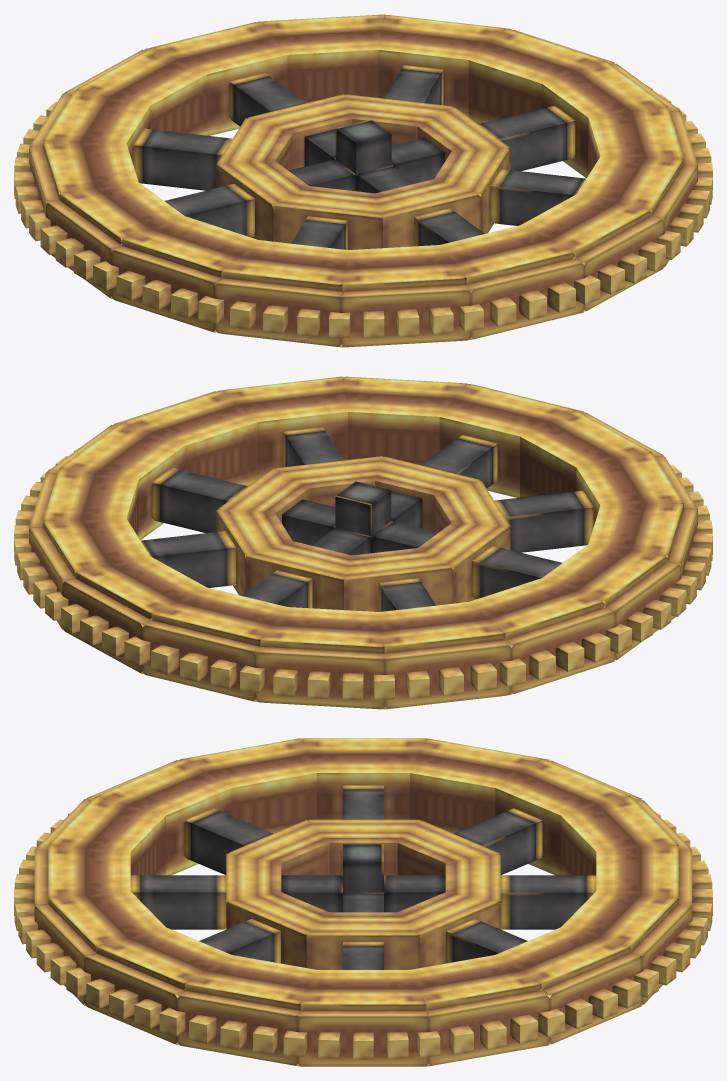
Rendered from giant_gear.obj.
3 views of the same model, one above another, from view 1: azimuth 30°, elevation 25°; view 2: azimuth 150°, elevation 25°; view 3: azimuth 270°, elevation 25° (orthographic).
Visible parts, largest first — view 1: hexadecagon, octagon, Gear19, Gear16, Gear18, Gear17, Gear15, Gear20, Gear14, Gear21; view 2: hexadecagon, octagon, Gear16, Gear17, Gear15, Gear14, Gear18, Gear13, Gear20, Gear19, Gear12; view 3: hexadecagon, octagon, Gear17, Gear18, Gear16, Gear15, Gear19, Gear14, Gear13, Gear20.
Part boxes in pixels (x1=…): hexadecagon: x1=29, y1=14, x2=697, y2=347; octagon: x1=216, y1=94, x2=510, y2=249; Gear19: x1=55, y1=107, x2=686, y2=337; Gear16: x1=14, y1=171, x2=703, y2=324; Gear18: x1=297, y1=85, x2=712, y2=337; Gear17: x1=40, y1=94, x2=712, y2=333; Gear15: x1=14, y1=143, x2=680, y2=309; Gear20: x1=74, y1=250, x2=624, y2=326; Gear14: x1=23, y1=115, x2=646, y2=283; Gear21: x1=116, y1=271, x2=145, y2=300; hexadecagon: x1=29, y1=376, x2=697, y2=709; octagon: x1=216, y1=456, x2=510, y2=611; Gear16: x1=33, y1=520, x2=712, y2=682; Gear17: x1=55, y1=456, x2=709, y2=693; Gear15: x1=17, y1=547, x2=711, y2=691; Gear14: x1=14, y1=525, x2=463, y2=698; Gear18: x1=30, y1=465, x2=693, y2=696; Gear13: x1=15, y1=510, x2=394, y2=699; Gear20: x1=659, y1=575, x2=696, y2=616; Gear19: x1=21, y1=447, x2=671, y2=629; Gear12: x1=307, y1=671, x2=330, y2=699; hexadecagon: x1=34, y1=738, x2=692, y2=1066; octagon: x1=226, y1=819, x2=500, y2=969; Gear17: x1=134, y1=860, x2=712, y2=1059; Gear18: x1=14, y1=812, x2=712, y2=1059; Gear16: x1=86, y1=889, x2=712, y2=1019; Gear15: x1=50, y1=956, x2=617, y2=1028; Gear19: x1=14, y1=819, x2=473, y2=1059; Gear14: x1=36, y1=943, x2=564, y2=1043; Gear13: x1=480, y1=812, x2=676, y2=1049; Gear20: x1=14, y1=874, x2=50, y2=958.
Bounding box in the file's own units: 6.38 × 1 × 6.38.
1 material, 1 textured.
